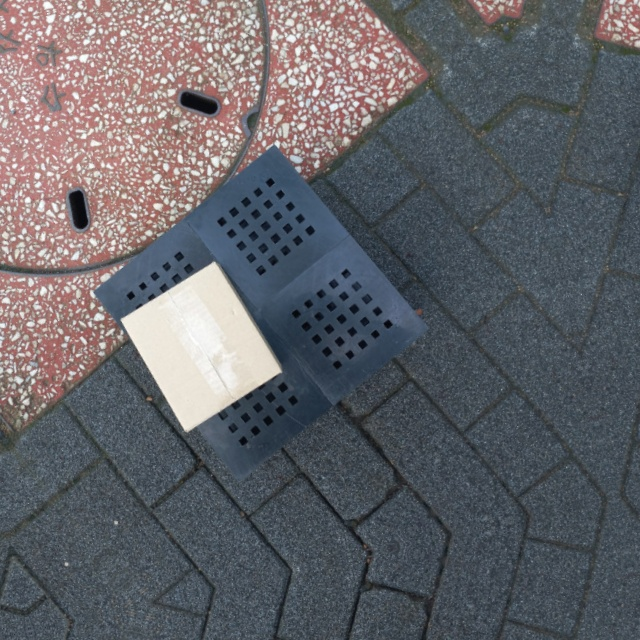box: (116, 255, 285, 438)
pallet: (80, 137, 430, 485)
